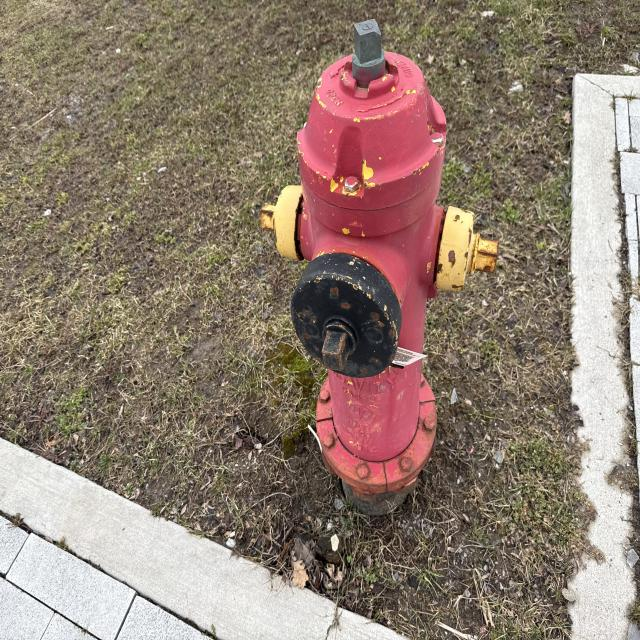Fire hydrant: (260, 17, 500, 508)
